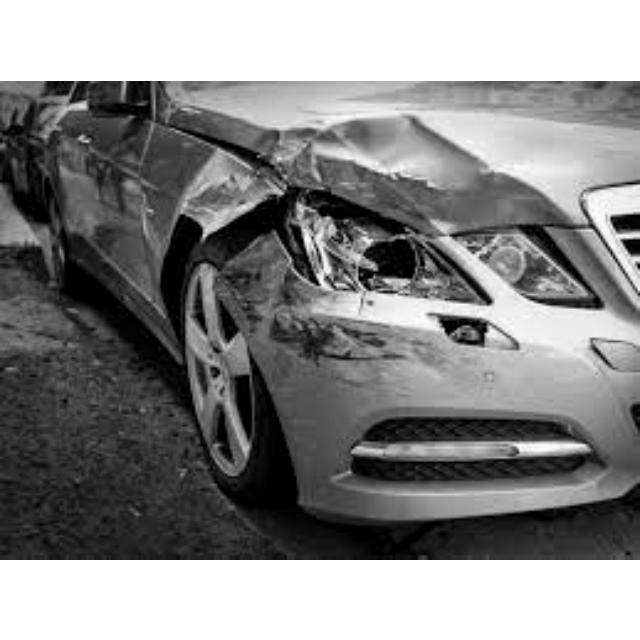Headlight-damage: (284, 181, 533, 319)
bonnet-dent: (256, 94, 574, 215)
fender-dent: (162, 137, 286, 267)
front-bumper-dent: (244, 265, 465, 395)
